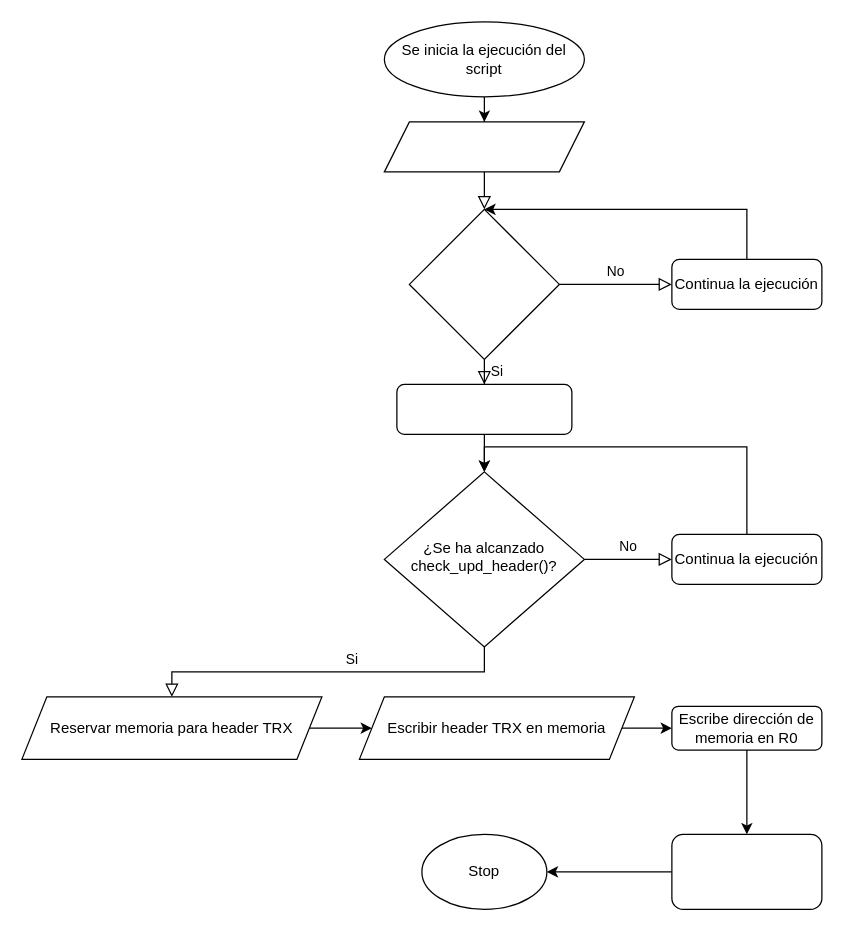
This 844x931 diagram has some shape labels left out. Here are the shapes that lost their labels. From the top down, the centre of each, then its label:
the point at 483,146: Lee una cabecera TRX
the point at 483,283: ¿Se ha alcanzado "__uClibc_main()"?
the point at 484,408: Reemplaza R0 por check_upd_header()
the point at 746,871: Ejecuta check_upd_header()
